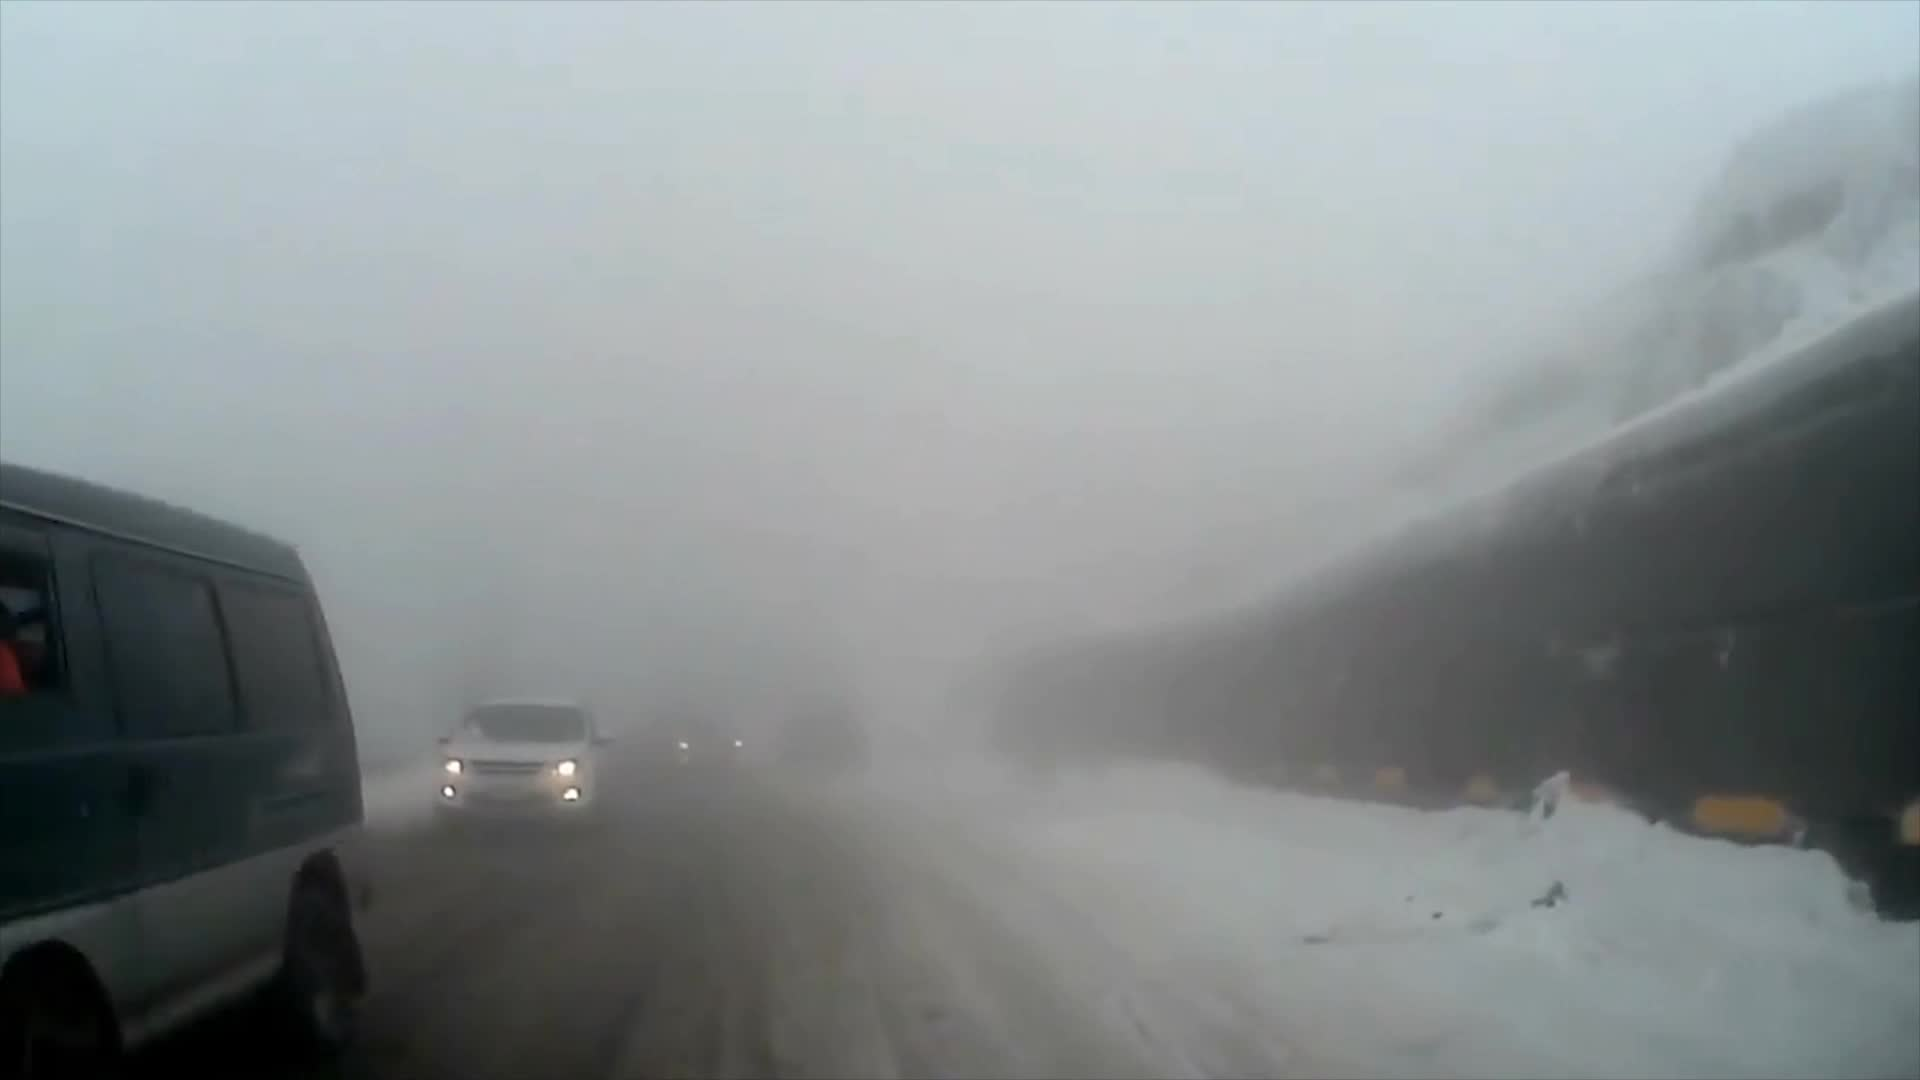vehicle: (0, 462, 377, 1080), (431, 696, 618, 841)
